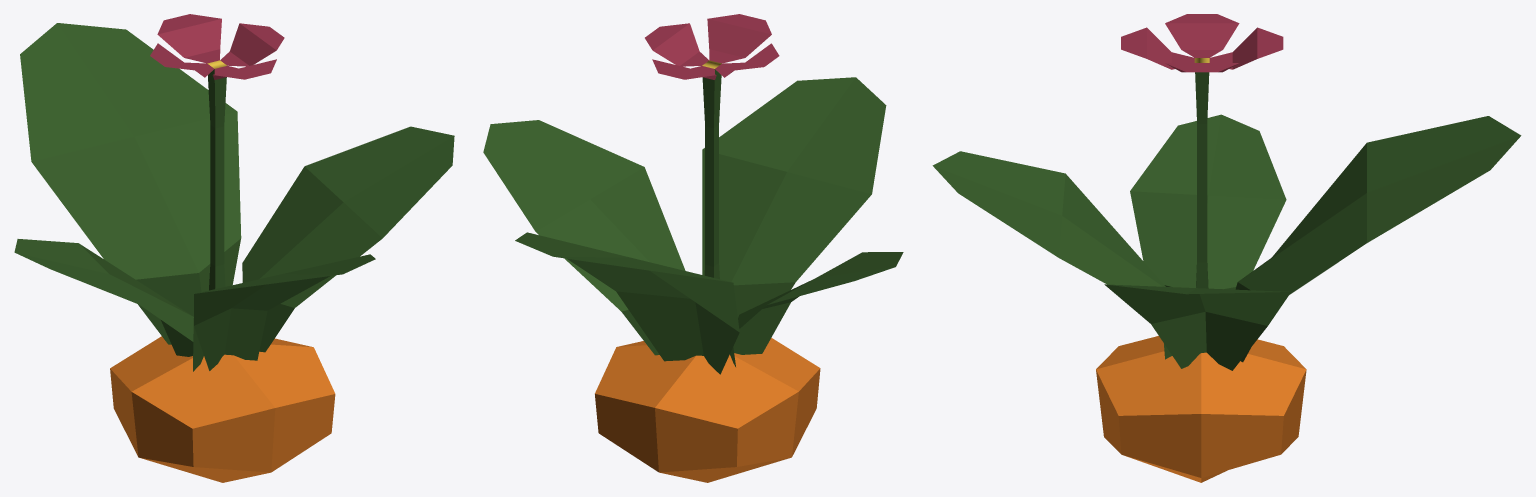
The model's file is TEX_Carrot_with_flower.fbx.
The picture shows the model from 3 angles, left to right: view 1: azimuth 30°, elevation 25°; view 2: azimuth 150°, elevation 25°; view 3: azimuth 270°, elevation 25°; orthographic projection.
Parts seen in each view (by area): view 1: F_Carrot_with_flower; view 2: F_Carrot_with_flower; view 3: F_Carrot_with_flower.
Boxes of the visible parts, x1=… form: F_Carrot_with_flower: x1=14, y1=14, x2=454, y2=482; F_Carrot_with_flower: x1=483, y1=14, x2=903, y2=482; F_Carrot_with_flower: x1=932, y1=14, x2=1521, y2=482.
Size of the model in its own units: 22.41 by 22.14 by 27.03.
Materials: 1 (1 with a texture image).
